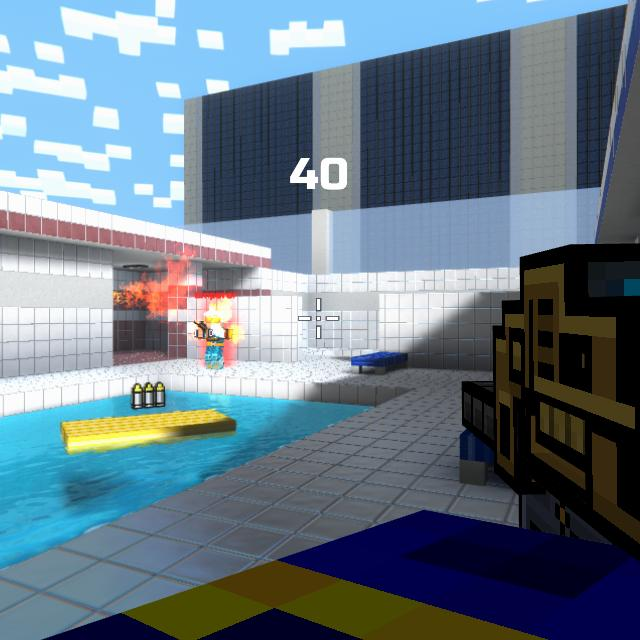Enemy: (194, 310, 233, 370)
